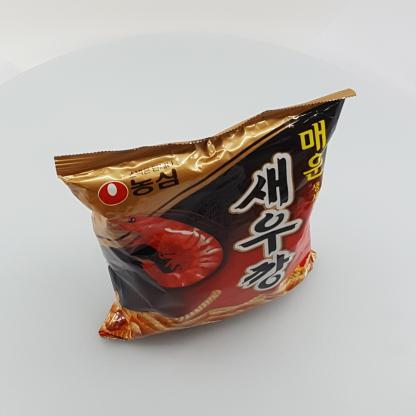Plastic Packaging: (49, 84, 371, 346)
